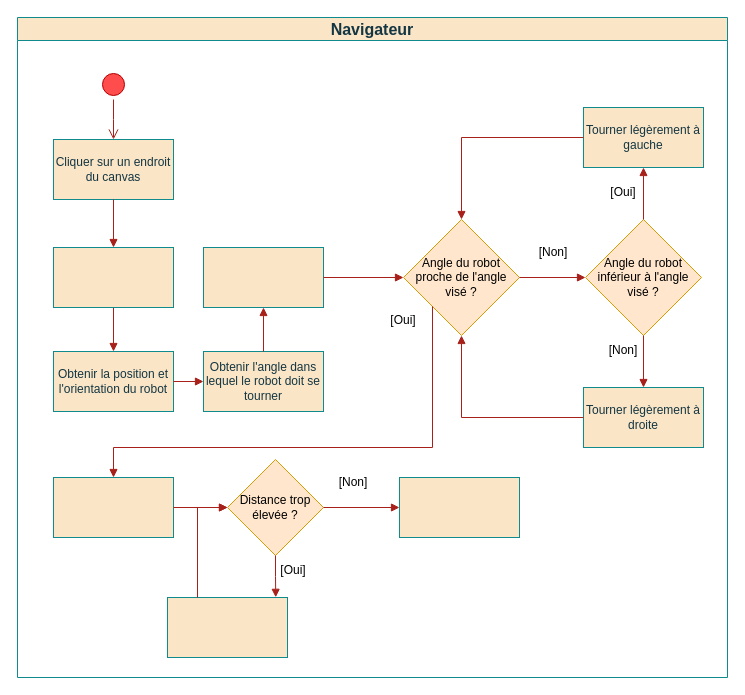
Some shapes in this 745 by 695 pixel diagram are drawn without their labels. Each missing label, with the centre of its shape:
"Calculer la différence entre l'angle cible et l'angle du robot" goes at pixel 263 277.
"Calculer la distance entre l'endroit ciblé et le robot" goes at pixel 113 507.
"Définir une fenêtre d'angle à viser" goes at pixel 113 277.
"Faire avancer le robot légèrement" goes at pixel 227 627.
"Le robot est arrivé" goes at pixel 459 507.
